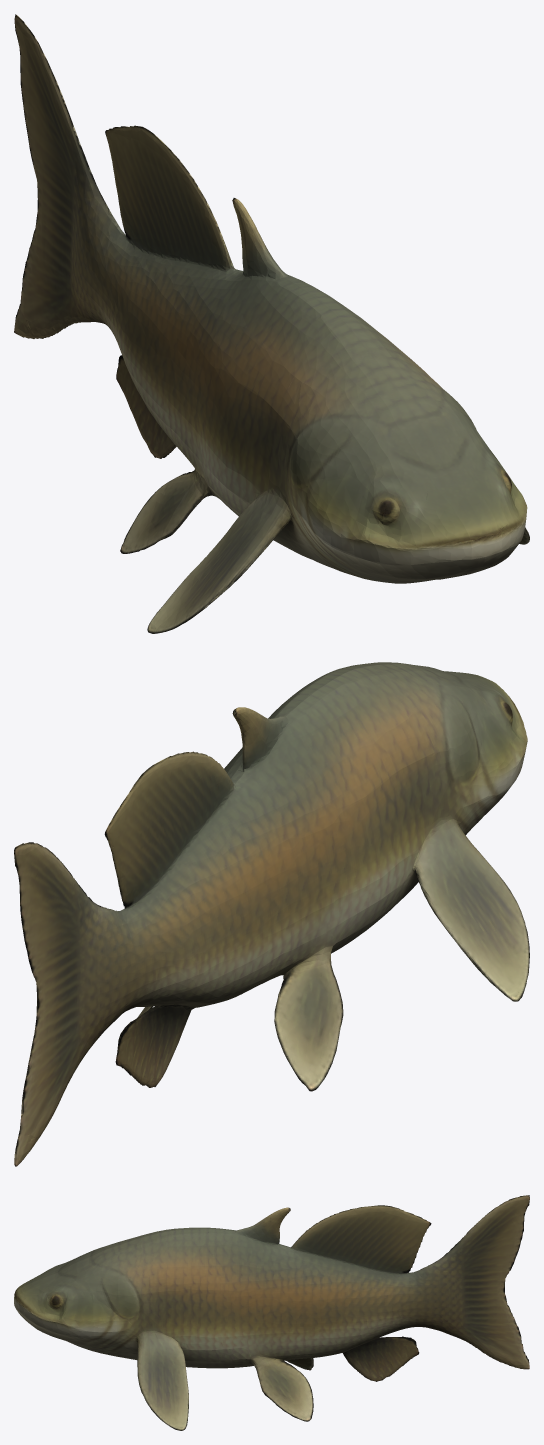
3 renders of one model, top to bottom at view 1: azimuth 30°, elevation 25°; view 2: azimuth 150°, elevation 25°; view 3: azimuth 270°, elevation 25°, orthographic. The views are drawn at different scales.
Parts seen in each view (by area): view 1: world; view 2: world; view 3: world.
Part boxes in pixels (<box>): world: <box>14,14,529,633</box>; world: <box>14,662,529,1166</box>; world: <box>14,1195,529,1430</box>.
Bounding box in the file's own units: 0.453 × 0.4295 × 1.
1 material, 1 textured.
